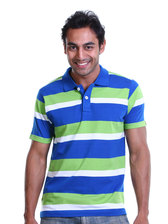clothoes: (28, 66, 155, 219)
